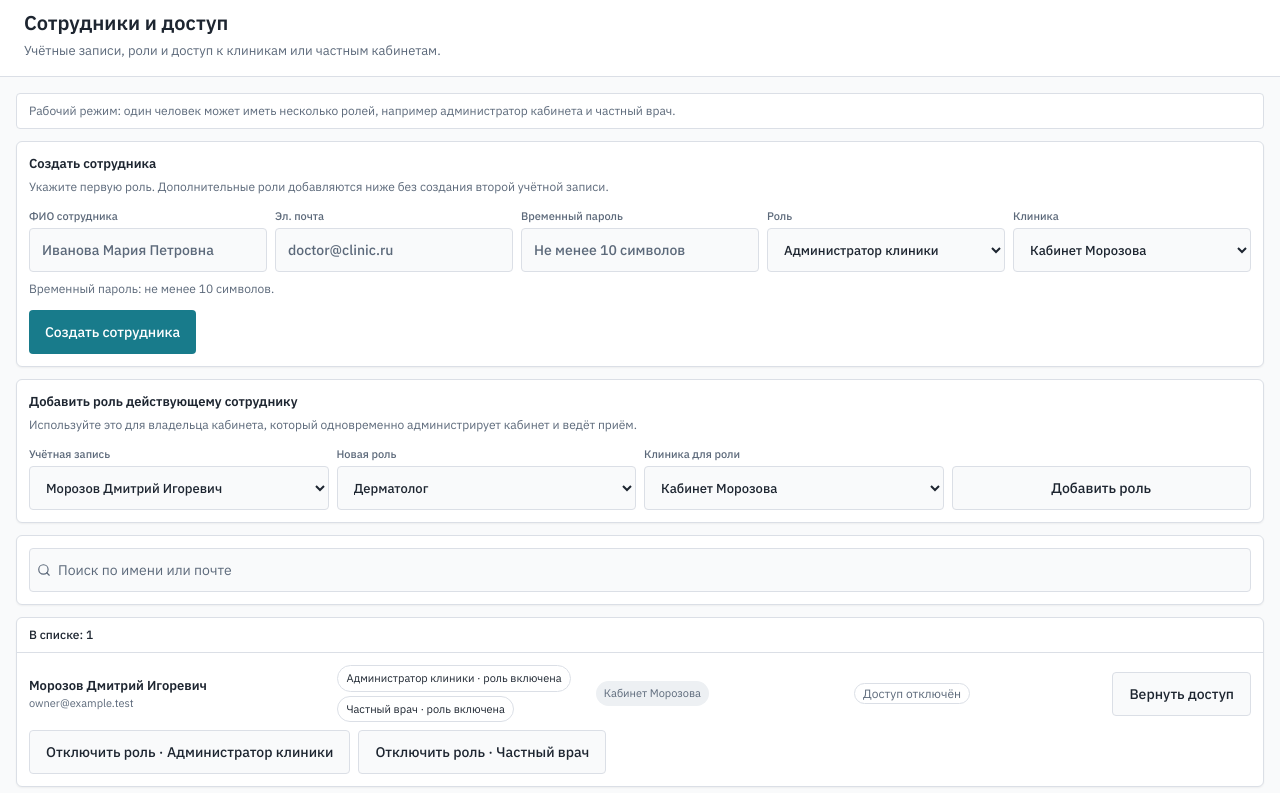
Test: Production admin management UI › reactivates employees and disables one role without removing the account
The image size is (1280, 793).
Expected: the heading "Сотрудники и доступ" is shown, [24,9,228,36]
Step 1. Click the button "Вернуть доступ" → x=1182, y=694, box [1112,672,1251,716]
(page scrolled)
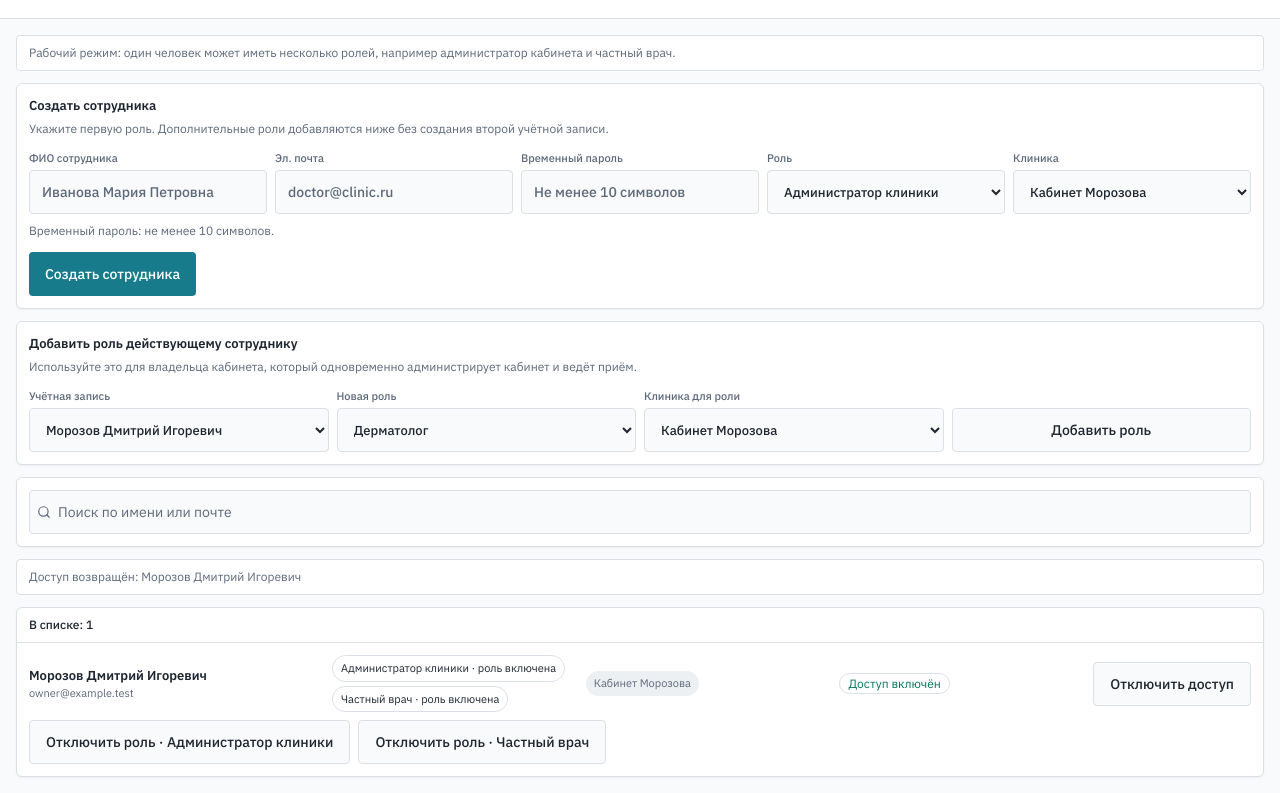
Expected: the text "Доступ возвращён: Морозов Дмитрий Игоревич" is shown, [16,559,1264,595]
Step 2. Click the button "Отключить роль · Частный врач" → x=482, y=742, box [358,720,606,764]
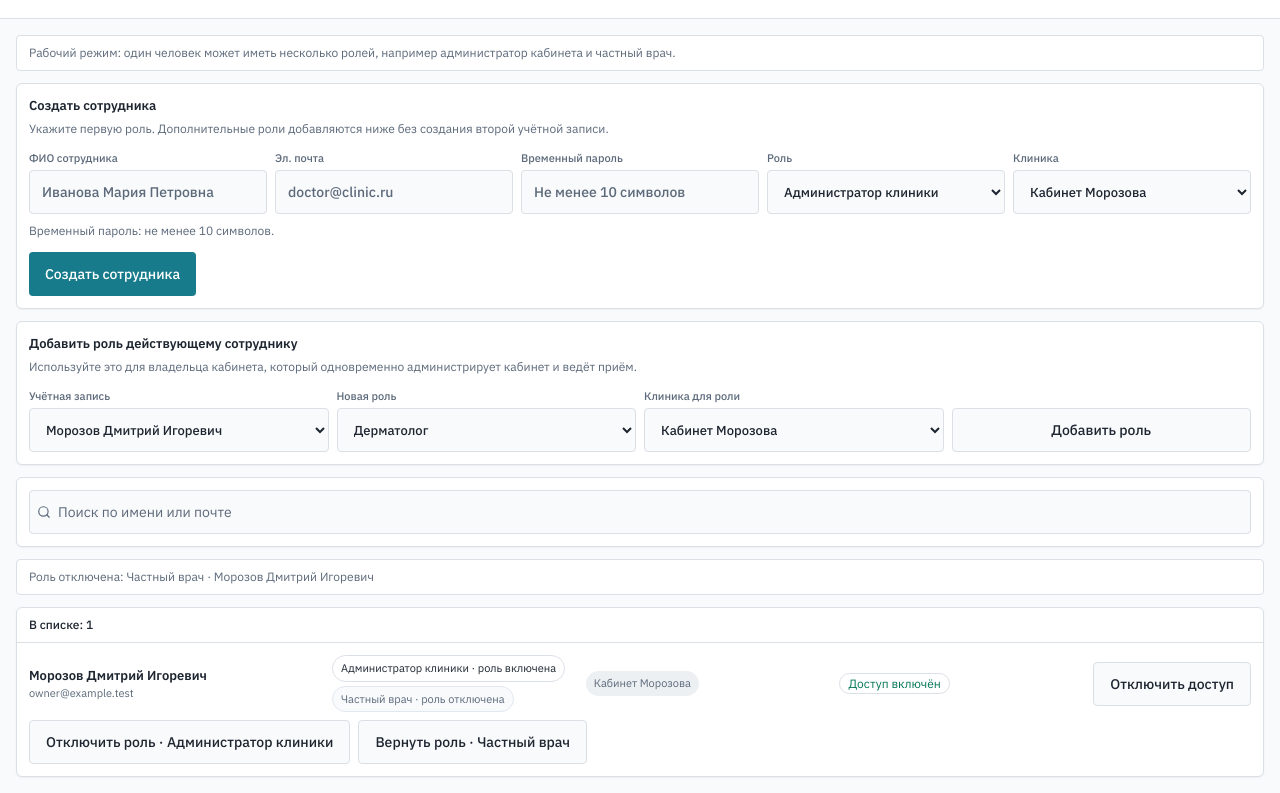
Expected: the text "Роль отключена: Частный врач · Морозов Дмитрий Игоревич" is shown, [16,559,1264,595]
